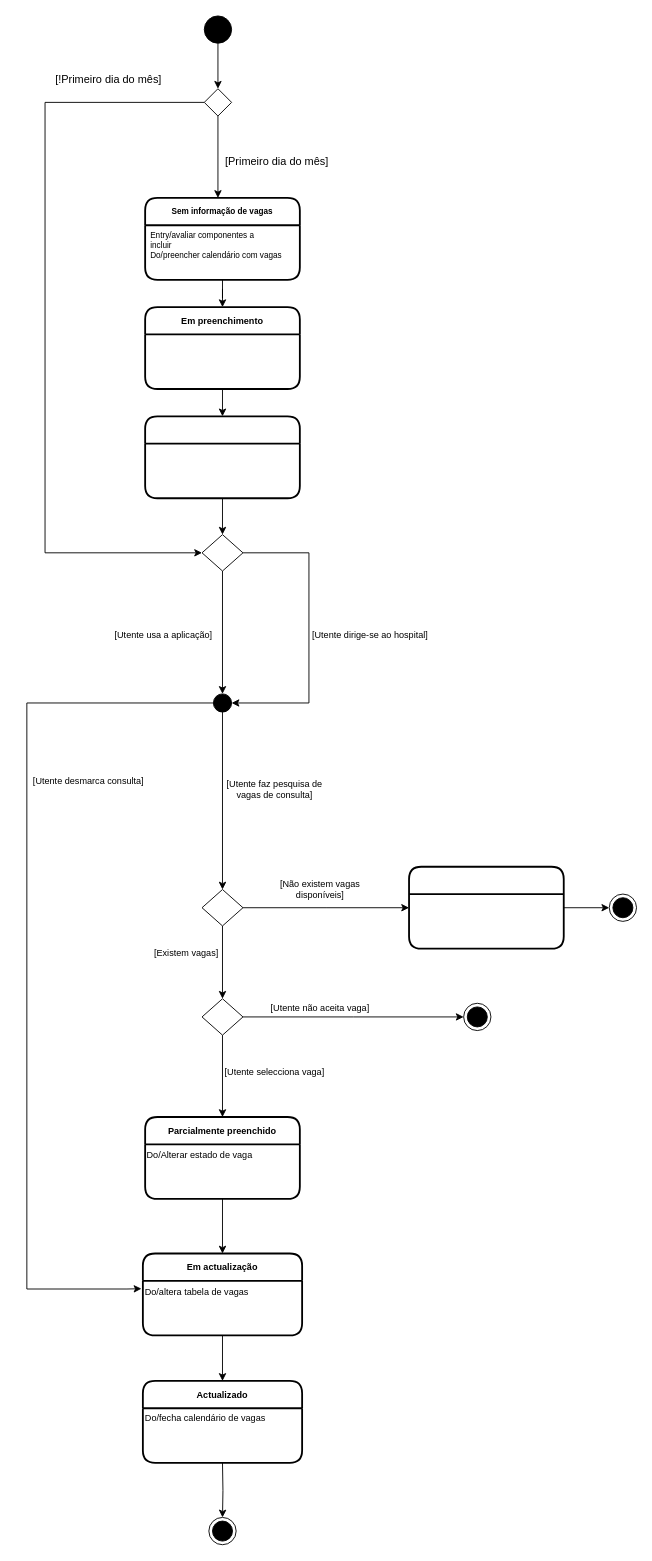
This 652x1561 diagram has some shape labels left out. Here are the shapes that lost their labels. From the top down, the centre of each, then its label:
point 222,457: Preenchido com vagas
point 486,907: Sem disponibilidade
